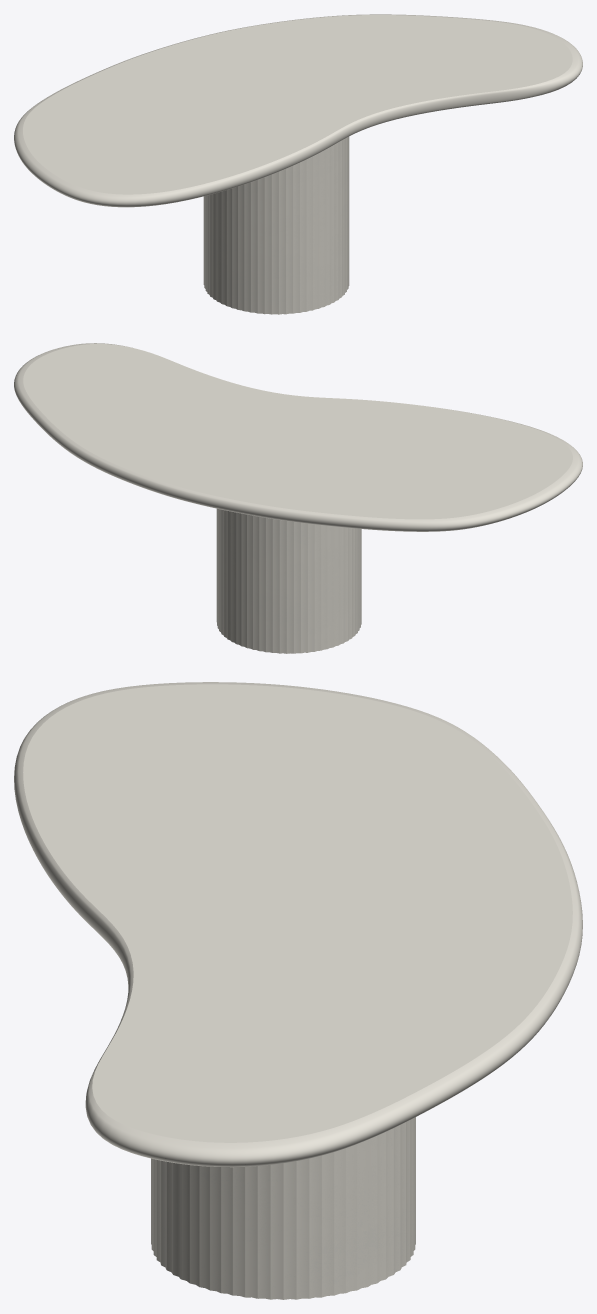
Rendered from pale_leaf1_round_ripple.glb.
3 renders of one model, top to bottom at view 1: azimuth 30°, elevation 25°; view 2: azimuth 150°, elevation 25°; view 3: azimuth 270°, elevation 25°, orthographic. The views are drawn at different scales.
Parts seen in each view (by area): view 1: round_leaf1, ripple; view 2: round_leaf1, ripple; view 3: round_leaf1, ripple.
Boxes of the visible parts, box(x1,y1,x2,y2) form: round_leaf1: box(14, 14, 582, 207); ripple: box(203, 136, 349, 314); round_leaf1: box(14, 343, 582, 531); ripple: box(216, 508, 361, 653); round_leaf1: box(14, 682, 582, 1167); ripple: box(151, 1117, 415, 1299).
Bounding box in the file's own units: 7.5 × 2.51 × 3.8.
1 material, 1 textured.
